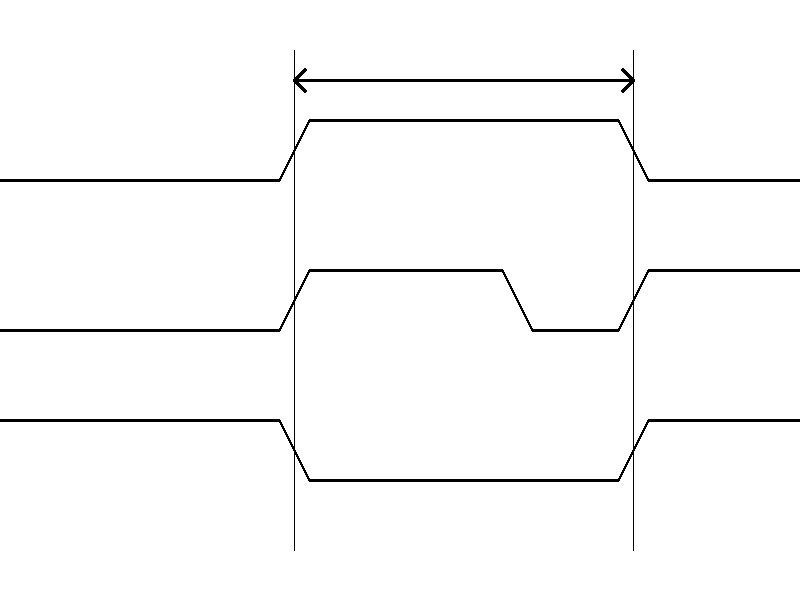double_arrow: (294, 65, 633, 95)
